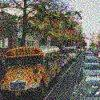buses: (1, 45, 62, 97)
